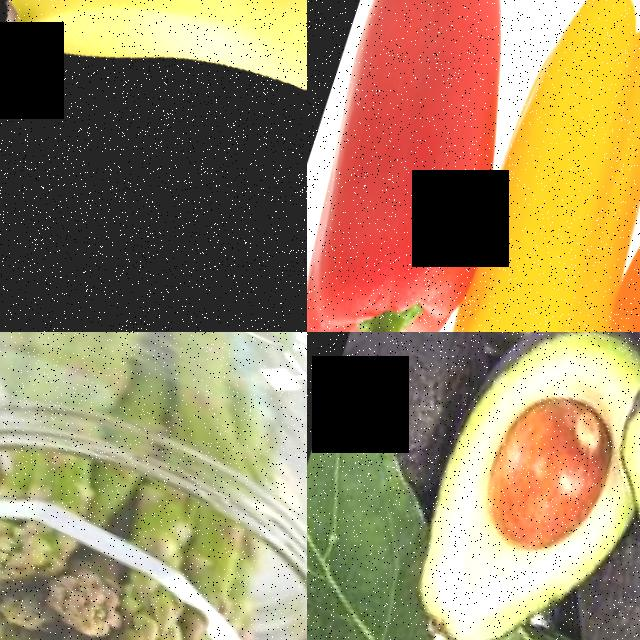asparagus: (81, 569, 204, 640), (0, 488, 67, 607)
avocado: (364, 332, 640, 640), (308, 332, 507, 502), (571, 332, 640, 640)
banana: (0, 0, 307, 332)
bell pepper: (307, 0, 566, 332), (388, 0, 640, 332), (563, 0, 640, 332)
